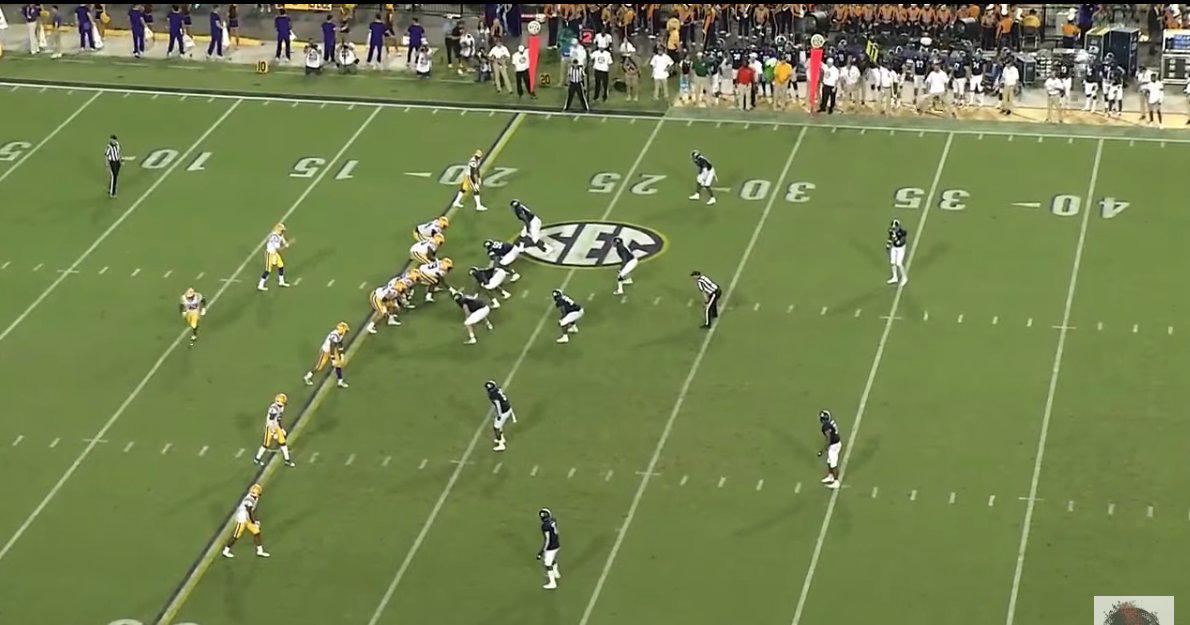defense: (485, 380, 522, 459), (533, 505, 565, 595), (510, 197, 555, 259), (452, 288, 498, 347), (816, 408, 847, 491), (606, 228, 637, 299), (467, 263, 512, 308), (552, 287, 586, 346), (886, 217, 913, 289), (690, 148, 722, 207), (485, 238, 526, 284)
oline: (366, 280, 412, 338), (414, 257, 461, 304), (382, 270, 420, 317), (415, 214, 455, 246), (406, 234, 444, 267)
qb: (257, 223, 292, 296)
ref: (693, 270, 726, 332), (564, 61, 593, 118), (105, 135, 128, 202)
skill: (220, 482, 274, 562), (303, 319, 356, 391), (252, 390, 299, 470), (451, 148, 489, 215), (180, 284, 210, 350)
